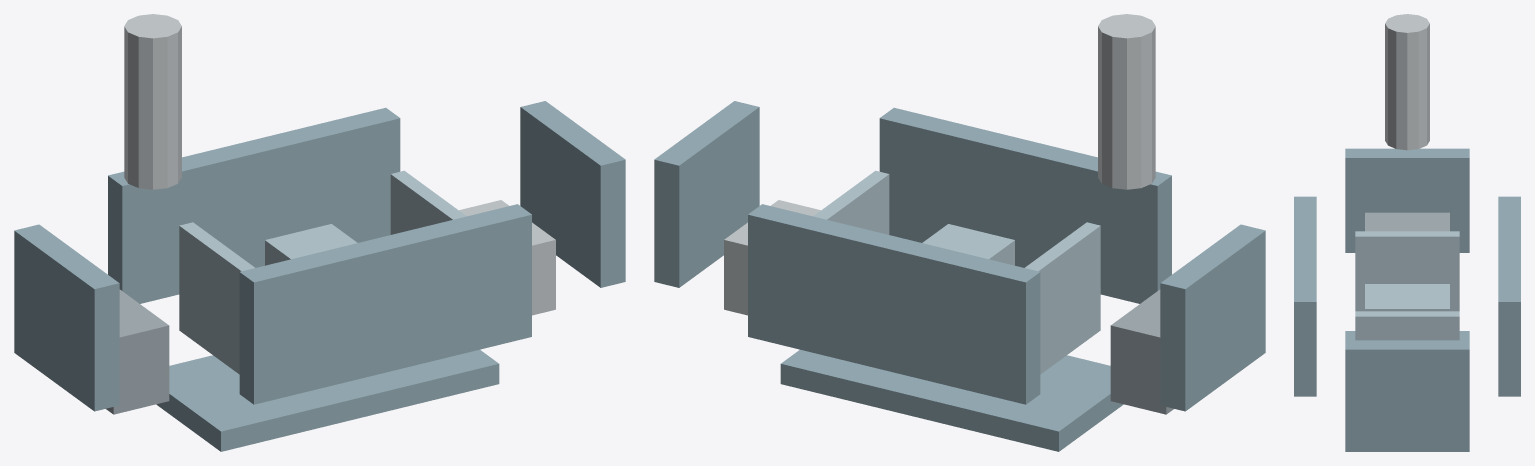
File: filter-sump.glb
3 views of the same model, side by side, from view 1: azimuth 30°, elevation 25°; view 2: azimuth 150°, elevation 25°; view 3: azimuth 270°, elevation 25° (orthographic). The views are drawn at different scales.
Parts seen in each view (by area): view 1: fs_wall_f, fs_wall_b, fs_bottom, fs_wall_l, fs_wall_r, fs_out, fs_div1, fs_media1, fs_div2, fs_media3, fs_media2; view 2: fs_wall_b, fs_wall_f, fs_bottom, fs_wall_l, fs_wall_r, fs_out, fs_div1, fs_media1, fs_div2, fs_media3, fs_media2; view 3: fs_wall_r, fs_wall_l, fs_div1, fs_out, fs_wall_b, fs_wall_f, fs_div2, fs_media2, fs_media1, fs_bottom.
Boxes of the visible parts, x1,y1,x2,y2 form: fs_wall_f: (239, 204, 531, 404); fs_wall_b: (108, 107, 400, 303); fs_bottom: (156, 349, 499, 451); fs_wall_l: (14, 224, 119, 411); fs_wall_r: (520, 101, 625, 287); fs_out: (124, 14, 181, 189); fs_div1: (179, 222, 254, 374); fs_media1: (106, 289, 169, 414); fs_div2: (390, 170, 466, 234); fs_media3: (459, 200, 555, 315); fs_media2: (265, 224, 357, 265); fs_wall_b: (748, 204, 1040, 404); fs_wall_f: (879, 107, 1171, 303); fs_bottom: (780, 349, 1123, 451); fs_wall_l: (1160, 224, 1265, 411); fs_wall_r: (654, 101, 759, 287); fs_out: (1098, 14, 1155, 189); fs_div1: (1025, 222, 1100, 374); fs_media1: (1110, 289, 1173, 414); fs_div2: (813, 170, 889, 234); fs_media3: (724, 200, 820, 315); fs_media2: (922, 224, 1014, 265); fs_wall_r: (1345, 340, 1469, 444); fs_wall_l: (1345, 148, 1469, 252); fs_div1: (1355, 231, 1459, 311); fs_out: (1385, 14, 1429, 150); fs_wall_b: (1498, 196, 1520, 396); fs_wall_f: (1294, 196, 1316, 396); fs_div2: (1355, 311, 1459, 340); fs_media2: (1365, 284, 1449, 311); fs_media1: (1365, 212, 1449, 231); fs_bottom: (1345, 331, 1469, 451).
Size of the model in its own units: 1.38 by 1 by 0.657.
